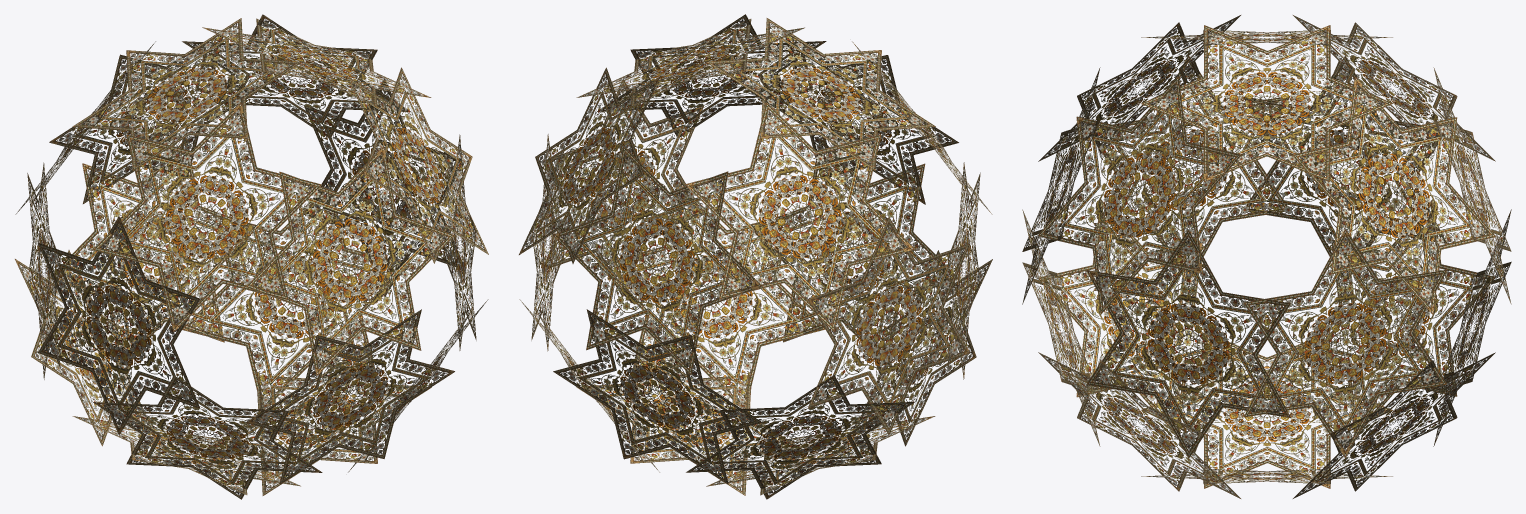
Rendered from IcositruncatedDodecadodecahedron12.gltf.
3 renders of one model, left to right at view 1: azimuth 30°, elevation 25°; view 2: azimuth 150°, elevation 25°; view 3: azimuth 270°, elevation 25°, orthographic. The views are drawn at different scales.
Visible parts, largest first — view 1: IcositruncatedDodecadodecahedron; view 2: IcositruncatedDodecadodecahedron; view 3: IcositruncatedDodecadodecahedron.
Part boxes in pixels (x1,y1,x2,y2): IcositruncatedDodecadodecahedron: [15, 14, 488, 499]; IcositruncatedDodecadodecahedron: [519, 14, 992, 499]; IcositruncatedDodecadodecahedron: [1022, 15, 1511, 498].
Bounding box in the file's own units: 3.85 × 3.85 × 3.85.
1 material, 1 textured.
